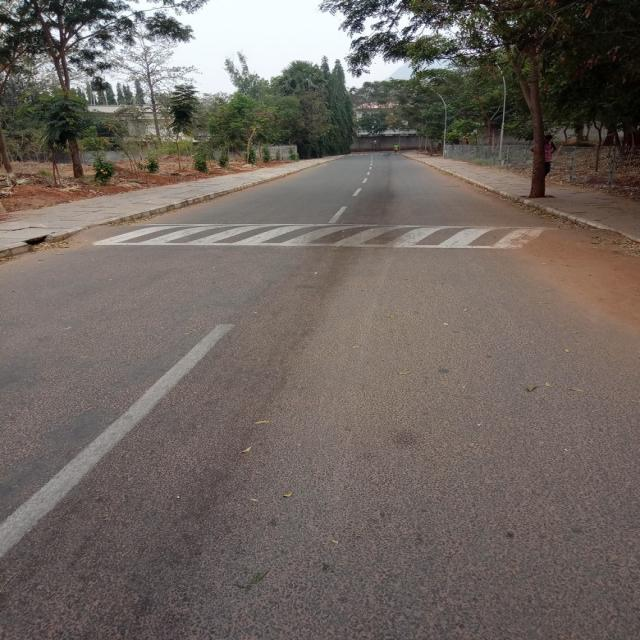speedbreaker: (84, 218, 560, 255)
